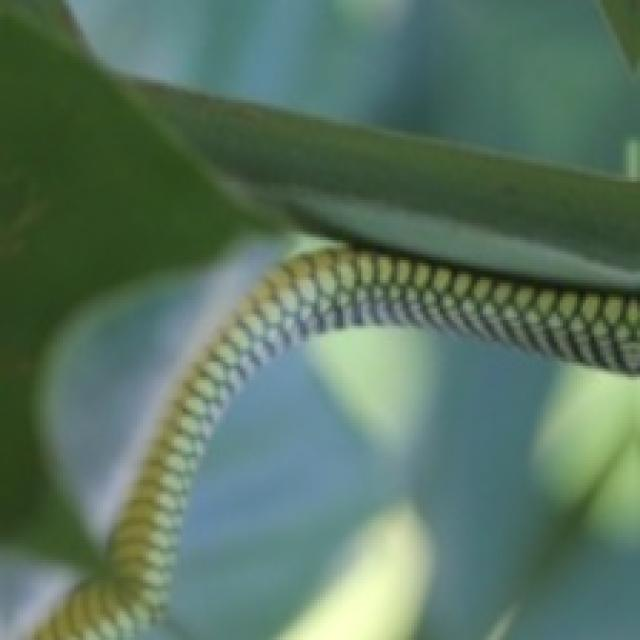paradise tree snake: (31, 246, 637, 637)
